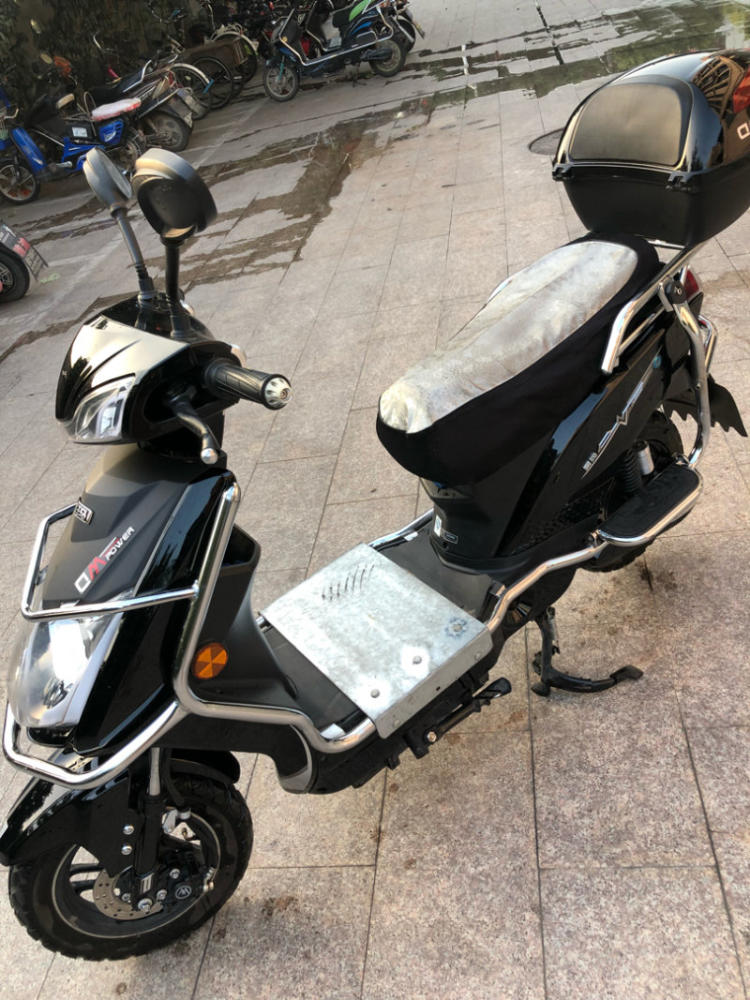电动车: (1, 55, 749, 959)
